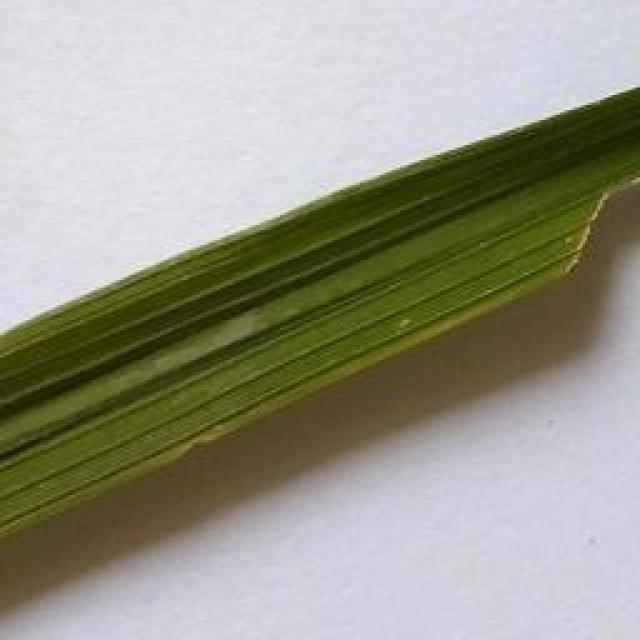Healthy-Plant: (0, 115, 556, 536)
